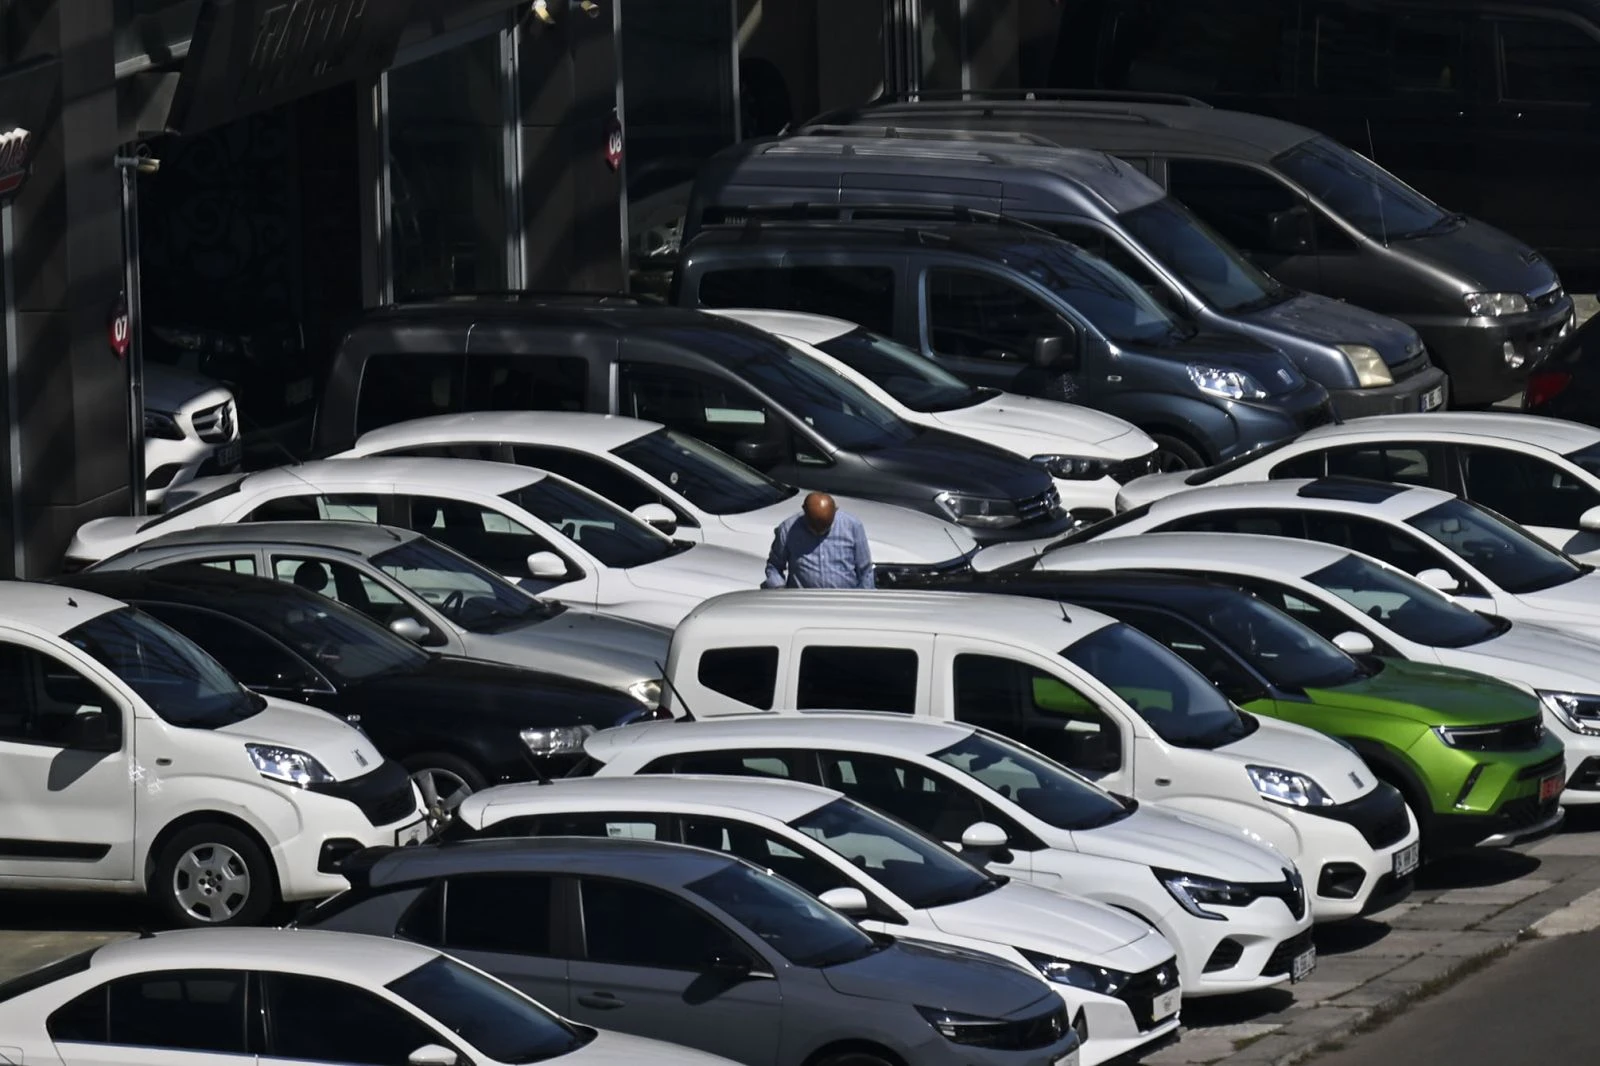Car: (659, 589, 1422, 924), (810, 89, 1577, 407), (684, 125, 1449, 419), (438, 775, 1181, 1066), (581, 709, 1316, 999), (309, 290, 1069, 544), (921, 572, 1567, 858), (295, 835, 1079, 1066), (673, 200, 1337, 470), (991, 533, 1600, 807), (50, 568, 652, 829), (0, 581, 428, 927), (163, 410, 980, 588), (65, 458, 763, 627), (80, 521, 670, 714), (971, 476, 1600, 639), (0, 928, 738, 1066), (708, 308, 1163, 523), (1116, 410, 1600, 566), (623, 45, 798, 277), (143, 364, 241, 510), (1521, 312, 1600, 427)
